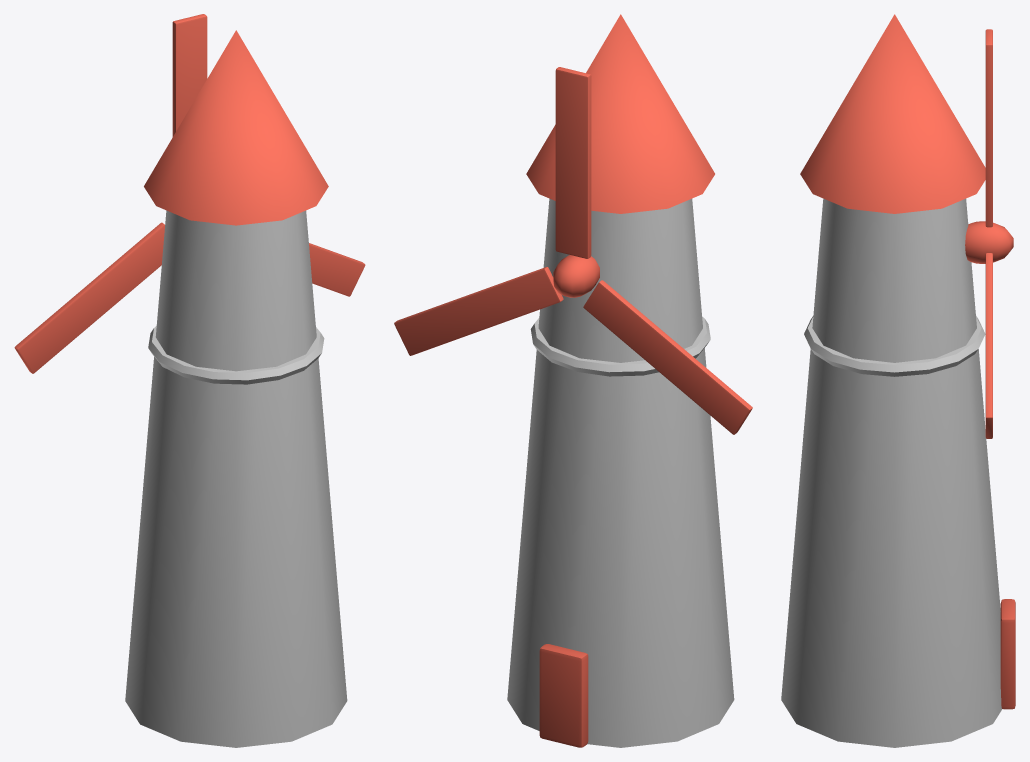
Rendered from scenery2.glb.
The picture shows the model from 3 angles, left to right: view 1: azimuth 30°, elevation 25°; view 2: azimuth 150°, elevation 25°; view 3: azimuth 270°, elevation 25°; orthographic projection. The views are drawn at different scales.
Visible parts, largest first — view 1: root_mesh, blades_mesh; view 2: root_mesh, blades_mesh; view 3: root_mesh, blades_mesh.
Boxes of the visible parts, left/top/right/bottom form: root_mesh: left=125, top=30, right=347, bottom=747; blades_mesh: left=14, top=14, right=365, bottom=373; root_mesh: left=507, top=14, right=734, bottom=747; blades_mesh: left=394, top=67, right=752, bottom=434; root_mesh: left=781, top=14, right=1015, bottom=747; blades_mesh: left=965, top=29, right=1013, bottom=438.
Size of the model in its own units: 3.26 by 6 by 1.86.
